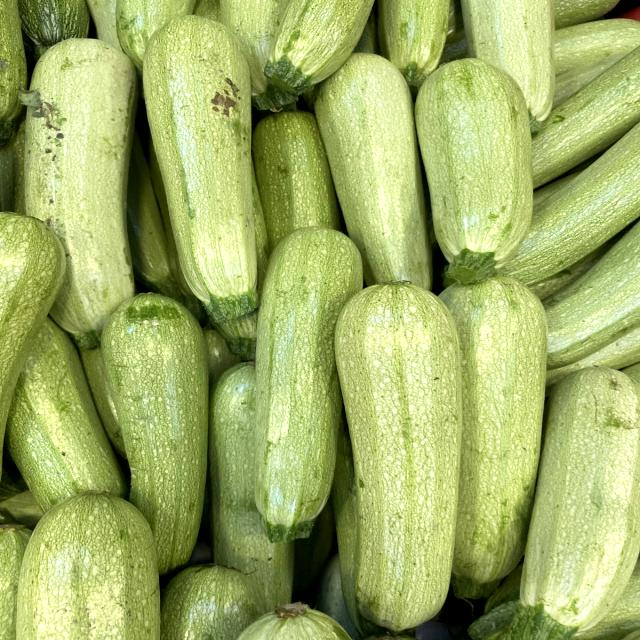zucchini: (311, 273, 484, 633), (128, 11, 304, 357), (236, 227, 383, 544), (400, 47, 564, 289)
